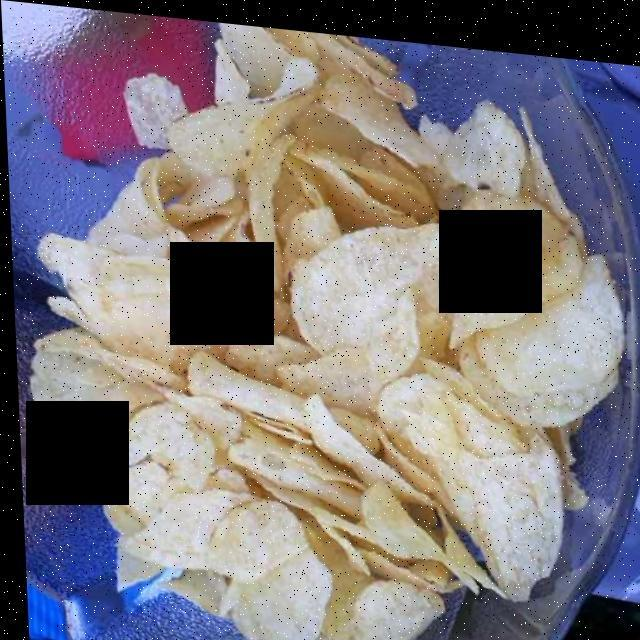crisps: (36, 61, 610, 640)
